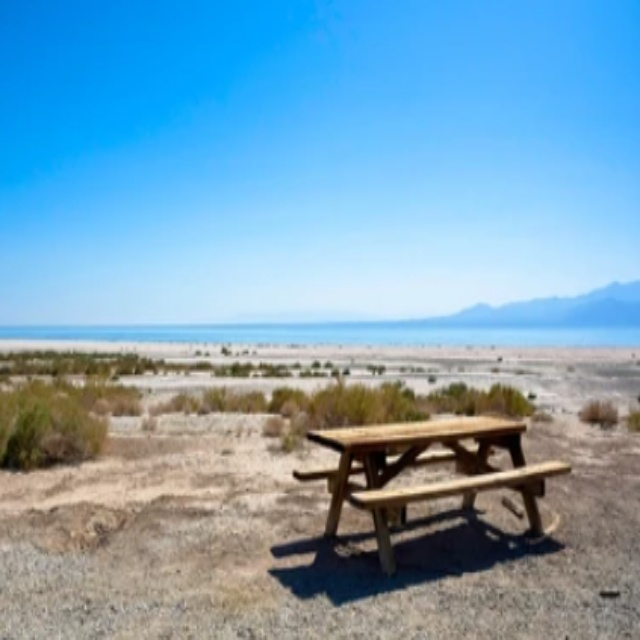obstacle: (284, 405, 570, 593)
